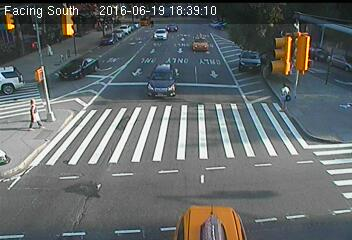neg: (227, 169, 246, 195), (191, 103, 210, 128), (73, 179, 92, 203), (314, 184, 332, 209), (95, 67, 113, 91), (228, 36, 246, 60), (115, 129, 132, 153), (73, 47, 90, 70), (161, 76, 178, 99), (268, 140, 284, 161), (23, 172, 39, 193), (315, 71, 331, 92), (317, 139, 333, 160), (227, 120, 241, 139), (126, 173, 140, 192), (135, 75, 148, 93), (175, 179, 188, 197), (276, 43, 289, 61)
pos: (21, 97, 48, 133), (274, 82, 297, 113)
